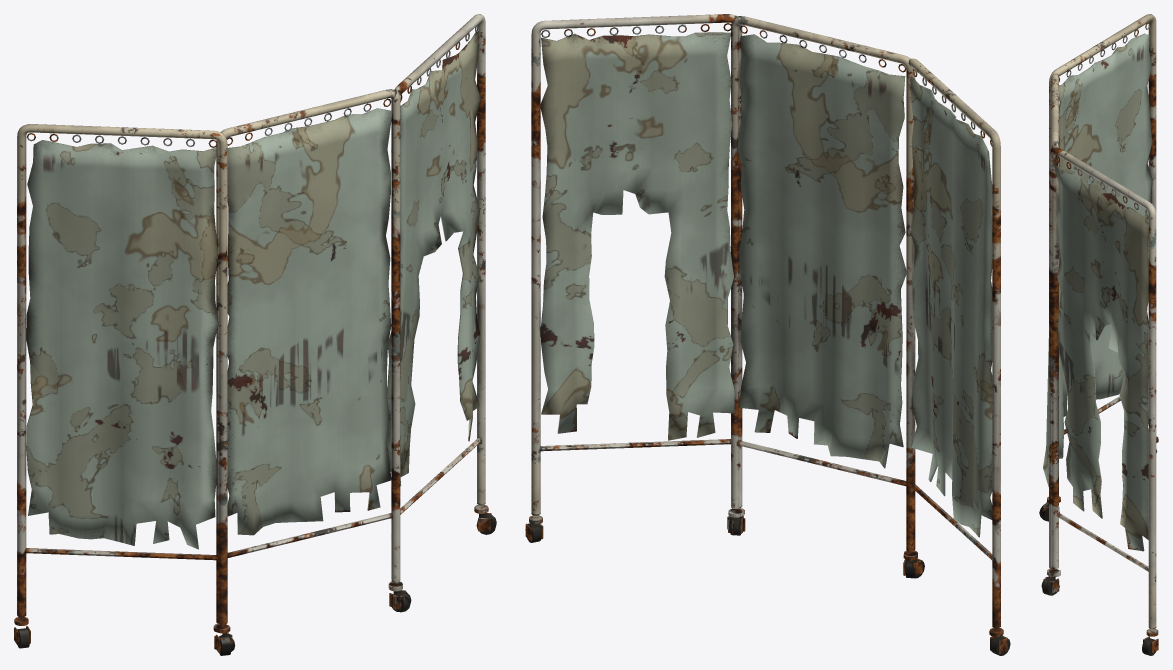
Rendered from PrivacyScreen.fbx.
3 views of the same model, side by side, from view 1: azimuth 30°, elevation 25°; view 2: azimuth 150°, elevation 25°; view 3: azimuth 270°, elevation 25° (orthographic). The views are drawn at different scales.
Visible parts, largest first — view 1: PrivacyScreen; view 2: PrivacyScreen; view 3: PrivacyScreen.
Part boxes in pixels (x1,y1,x2,y2): PrivacyScreen: (14, 14, 496, 655); PrivacyScreen: (525, 14, 1010, 655); PrivacyScreen: (1039, 14, 1158, 655).
Bounding box in the file's own units: 5.11 × 5.29 × 1.28.
Materials: 1 (1 with a texture image).
